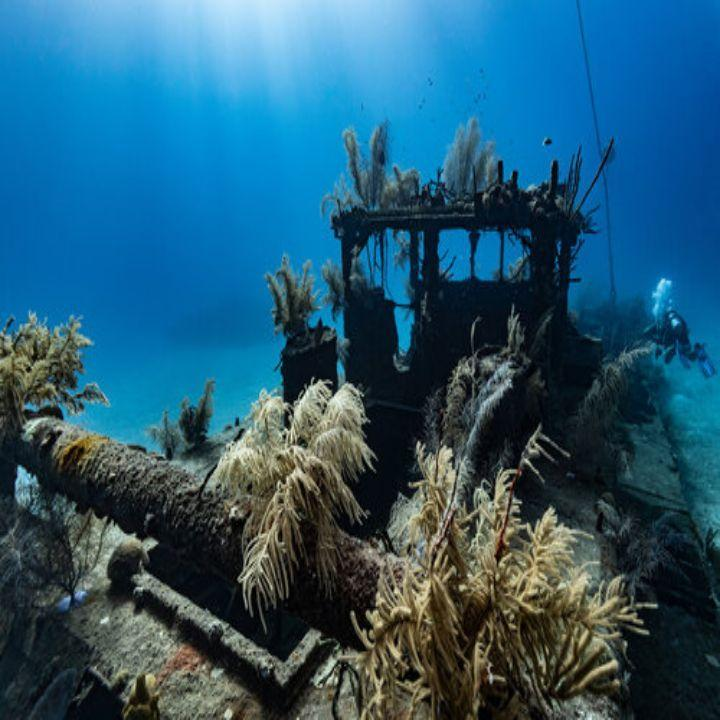Bleached disease: (201, 363, 387, 601)
